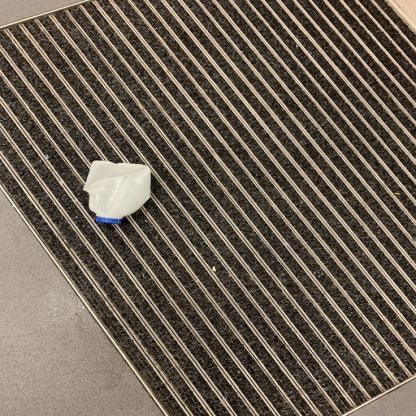trash: (84, 159, 154, 228)
